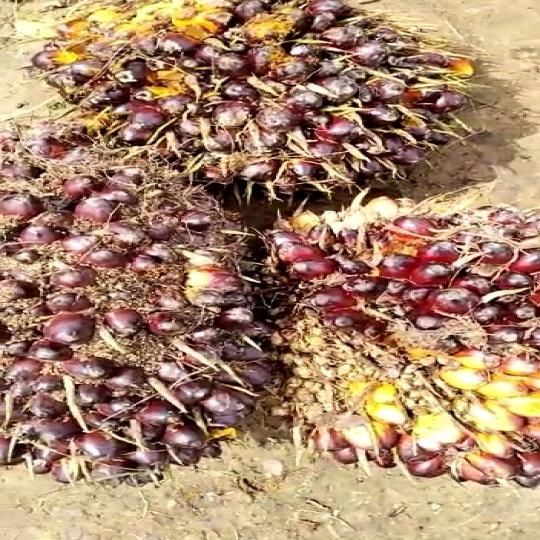kurang masak: (0, 119, 285, 493), (23, 0, 477, 195), (256, 193, 540, 498)
